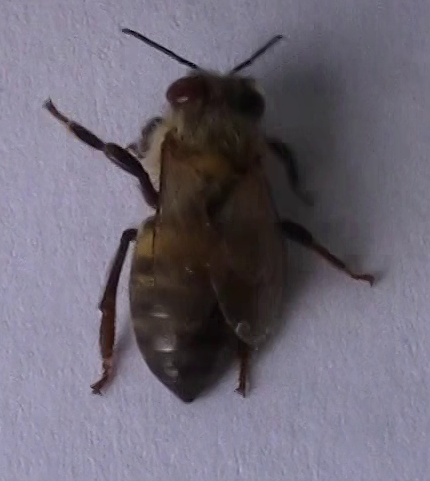Varroa destructor: (163, 75, 209, 109)
